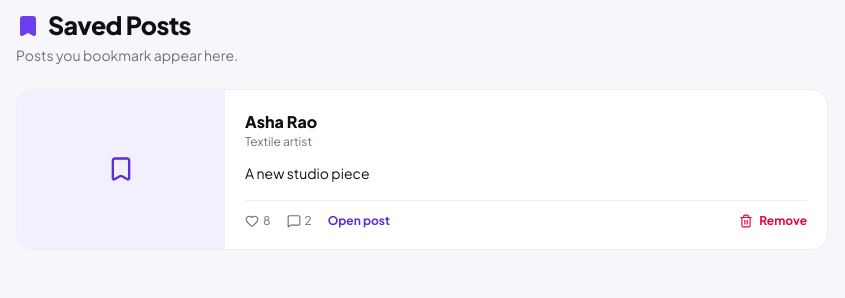
Test: loads saved posts and removes a bookmark through the persisted endpoint
This screenshot has width=845, height=298.
Expected: the link "A new studio piece" is shown, x1=245 y1=164 x2=370 y2=182
What coordinates should you click on to do the following:
click the button with aria-label "Remove saved post by Asha Rao"
I would click on:
 (773, 221)
Its box is x1=739 y1=213 x2=807 y2=229.
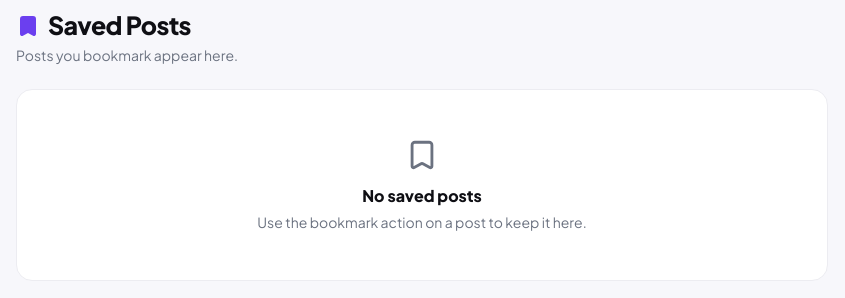
Now the link "A new studio piece" is gone
